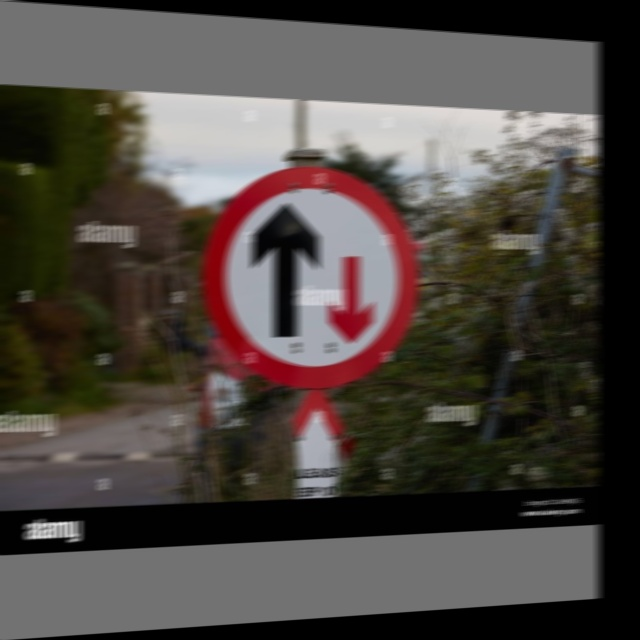Priority_for_Oncoming_Traffic: (203, 161, 418, 390)
